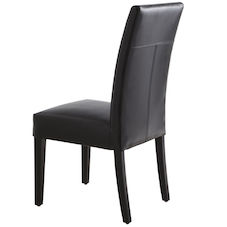chair: (18, 1, 207, 226)
